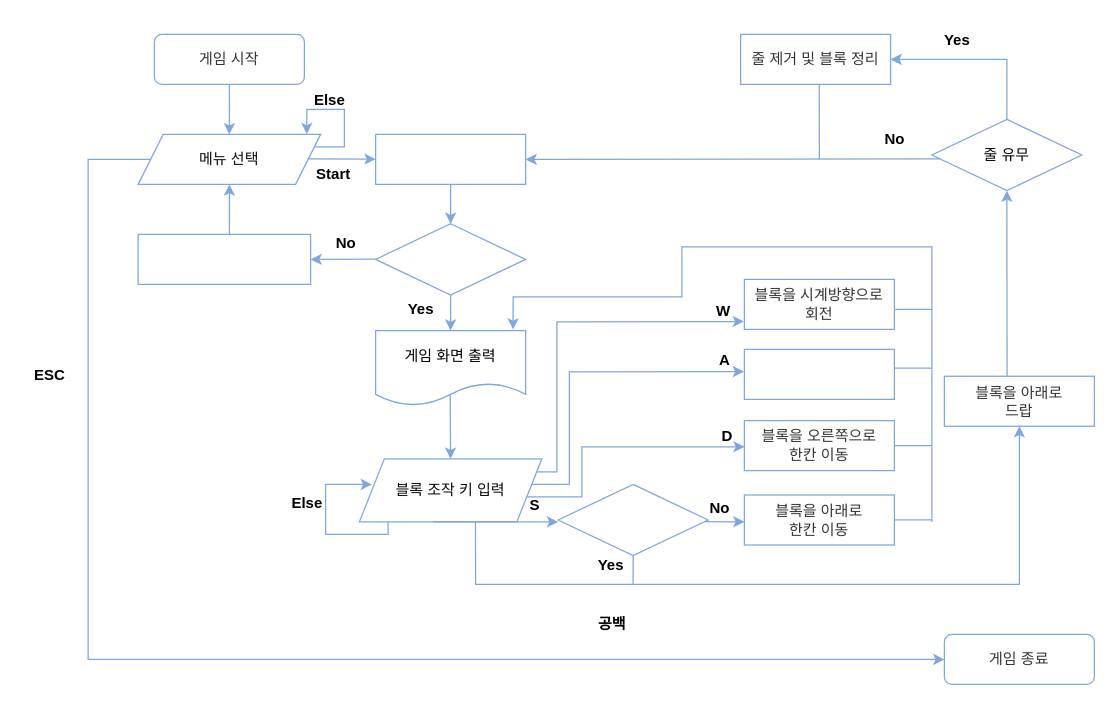
Image size: 1116x706. Some labels were removed from this diagram. The shapes that lost their labels are listed below. From the top down, each one's centre as x and y in pixels, then its label:
At point 450,158: "블록 호출".
At point 224,258: "게임 오버".
At point 450,258: "가져올 블록 자리 유무".
At point 818,373: "블록을 왼쪽으로 한칸 이동".
At point 632,519: "블록 밑이 바닥인가".
